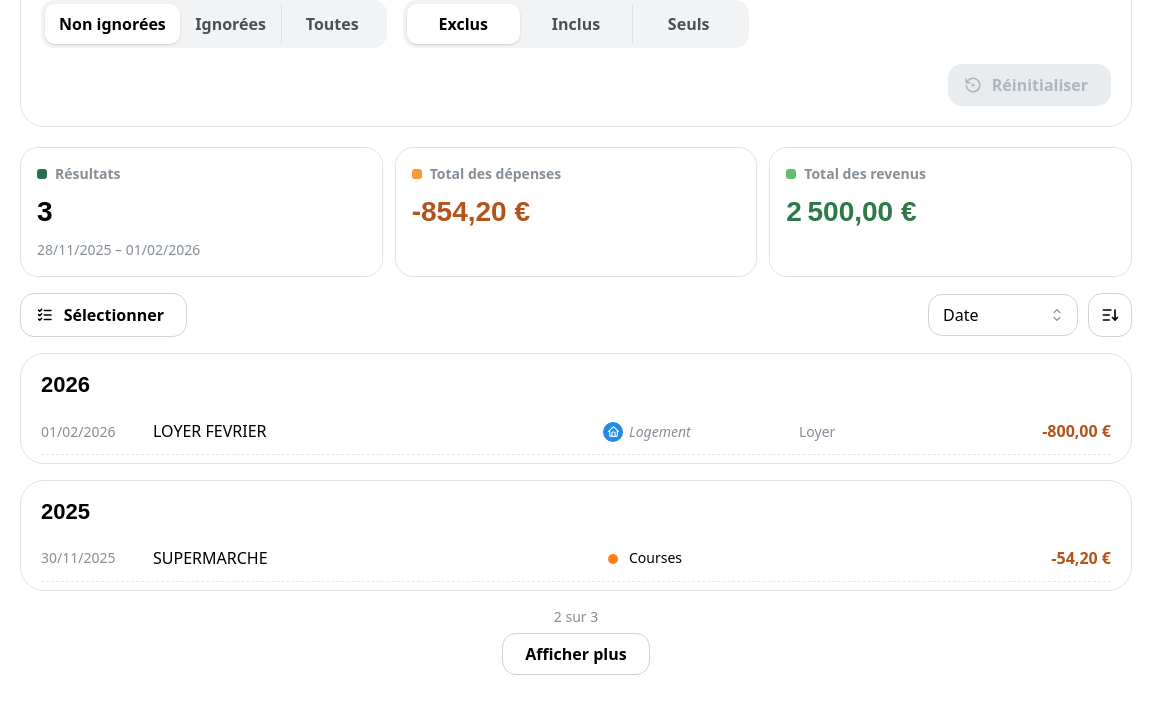
Test: SearchPage › loads the next page on demand
This screenshot has width=1152, height=707.
(page scrolled)
Expected: the text "LOYER FEVRIER" is shown, x1=153 y1=420 x2=266 y2=444
Expected: the text "SALAIRE" is not shown
Click the button "Afficher plus": (576, 654) x1=502 y1=633 x2=650 y2=675
(page scrolled)
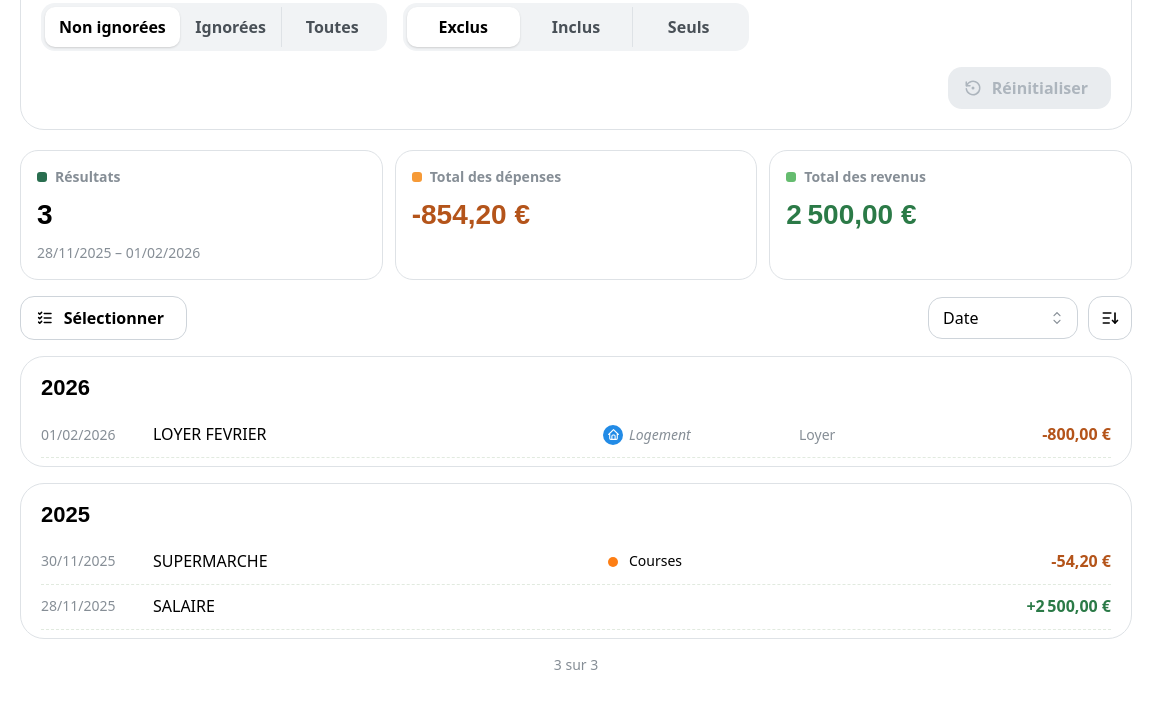
Result: the text "SALAIRE" is shown at x1=153 y1=594 x2=215 y2=619
Result: the button "Afficher plus" is gone
